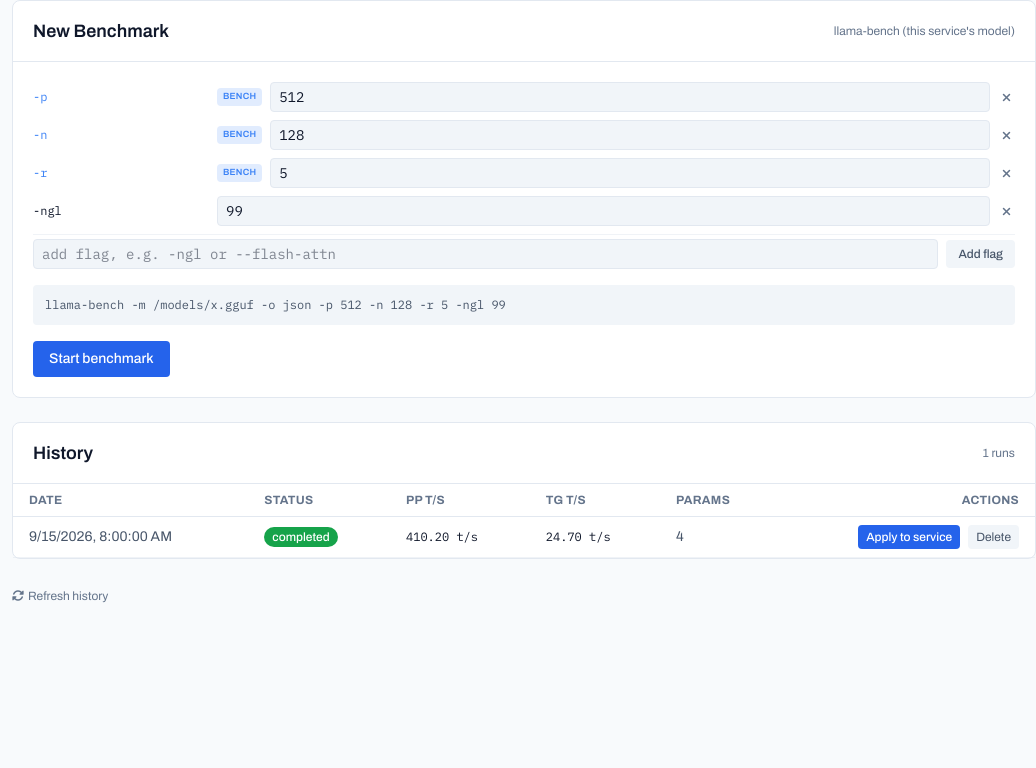
Test: BenchmarkTab › applies a completed run with the confirmation, showing what was applied and skipped
The image size is (1036, 768).
Click the button "Apply to service": (909, 537) top-left (858, 525), bottom-right (960, 549)
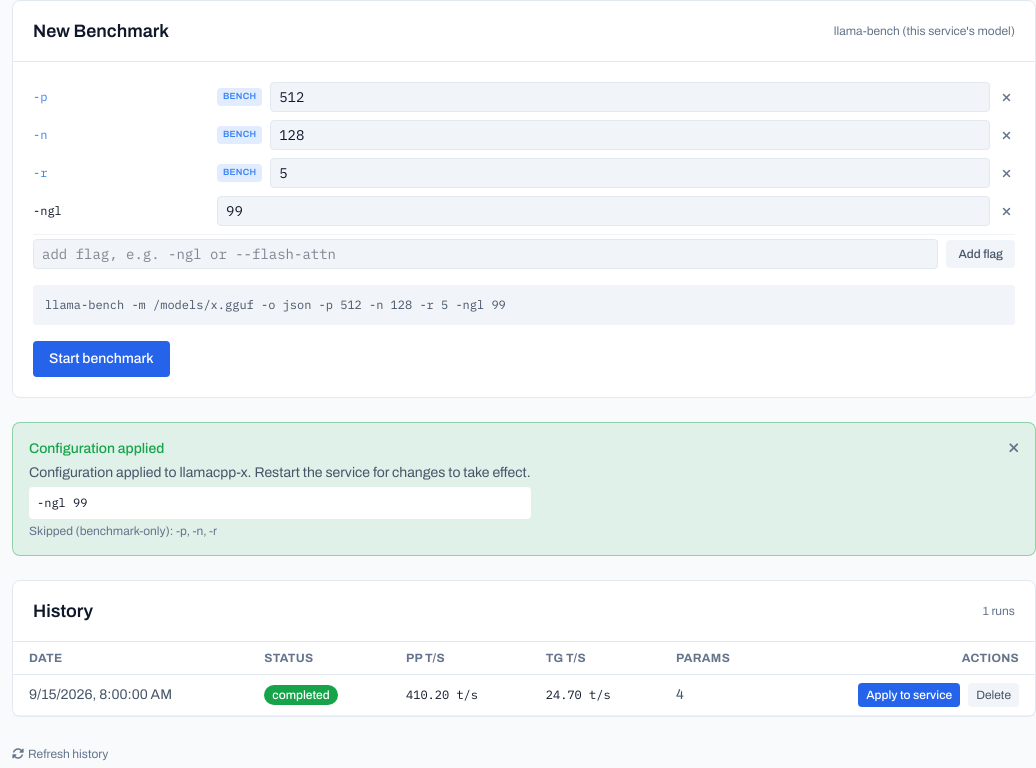
Result: the text "Restart the service for changes to take effect." is shown at top-left (29, 465), bottom-right (531, 480)
Result: the text "-ngl 99" is shown at top-left (29, 487), bottom-right (531, 519)
Result: the text "Skipped (benchmark-only): -p, -n, -r" is shown at top-left (29, 524), bottom-right (217, 538)
